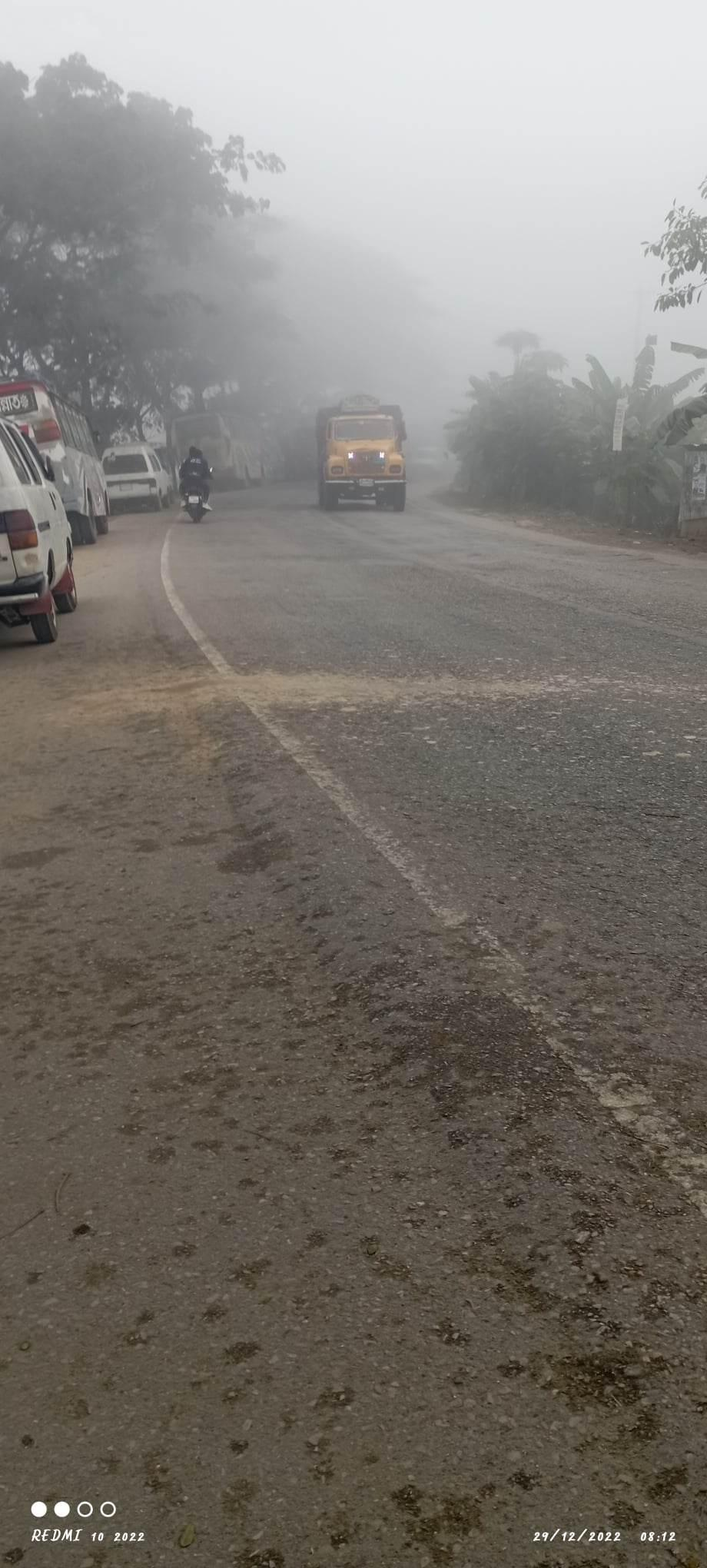Bike: (171, 440, 225, 556)
Bus: (2, 375, 129, 563)
Car: (99, 417, 174, 525)
Truck: (304, 378, 451, 545)
